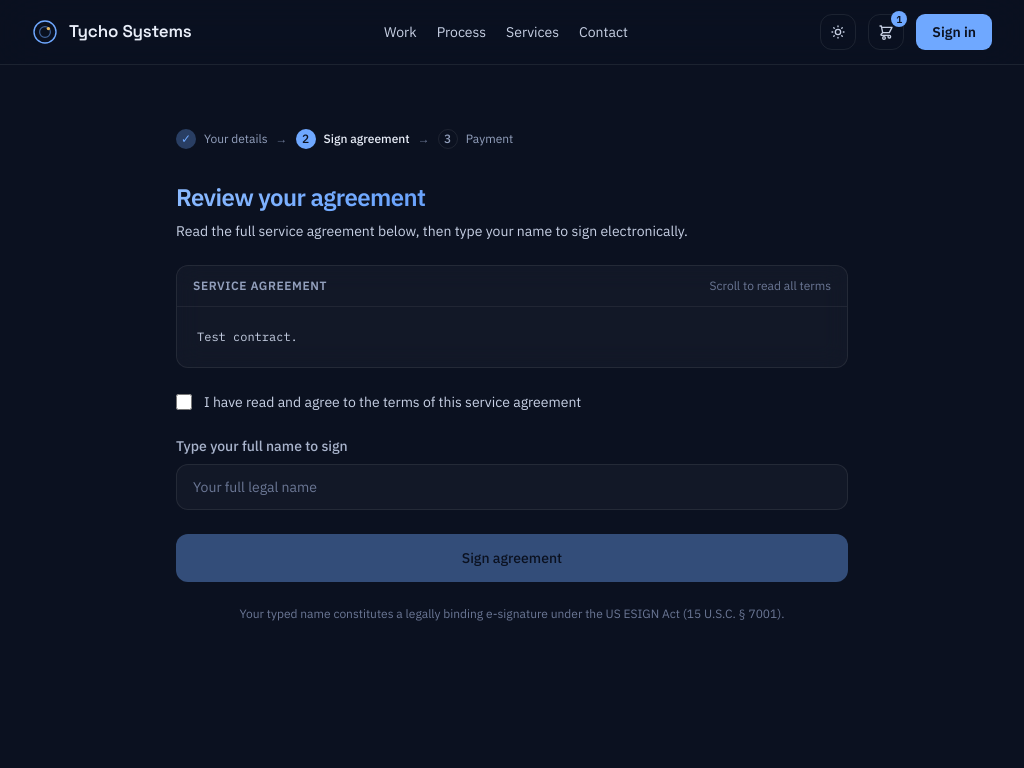
Test: SignContract (Step 2 — Agreement & Payment) › sign button is disabled until checkbox checked and name entered
Check: the button "Sign agreement" is disabled, box [176,534,848,582]
Click the checkbox: (184, 402) [176,394,192,410]
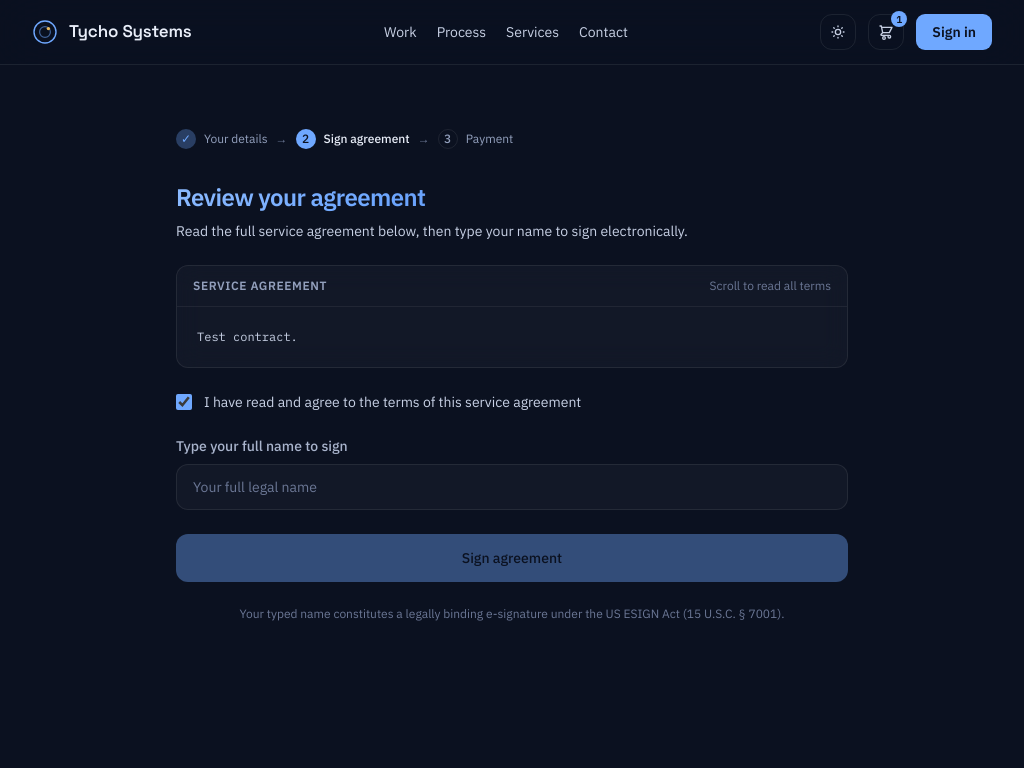
Check: the button "Sign agreement" is disabled, box [176,534,848,582]
In the field with placeholder "Your full legal name": (512, 486) [176,464,848,510], type "Jane Doe"
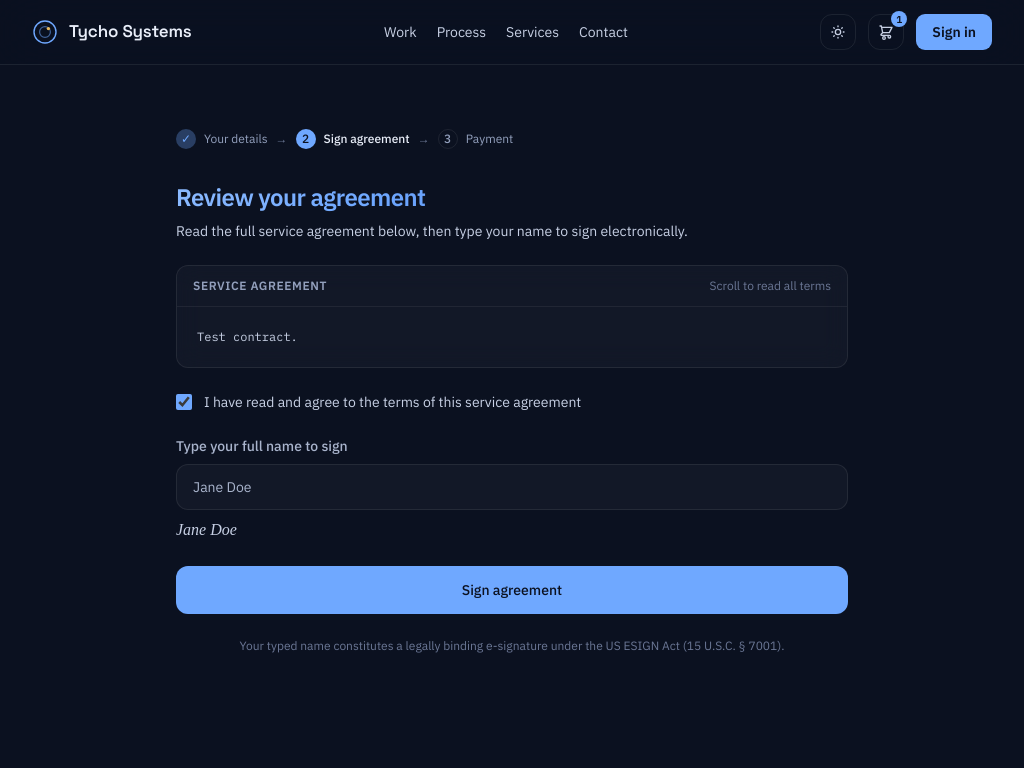
Check: the button "Sign agreement" is enabled, box [176,566,848,614]
